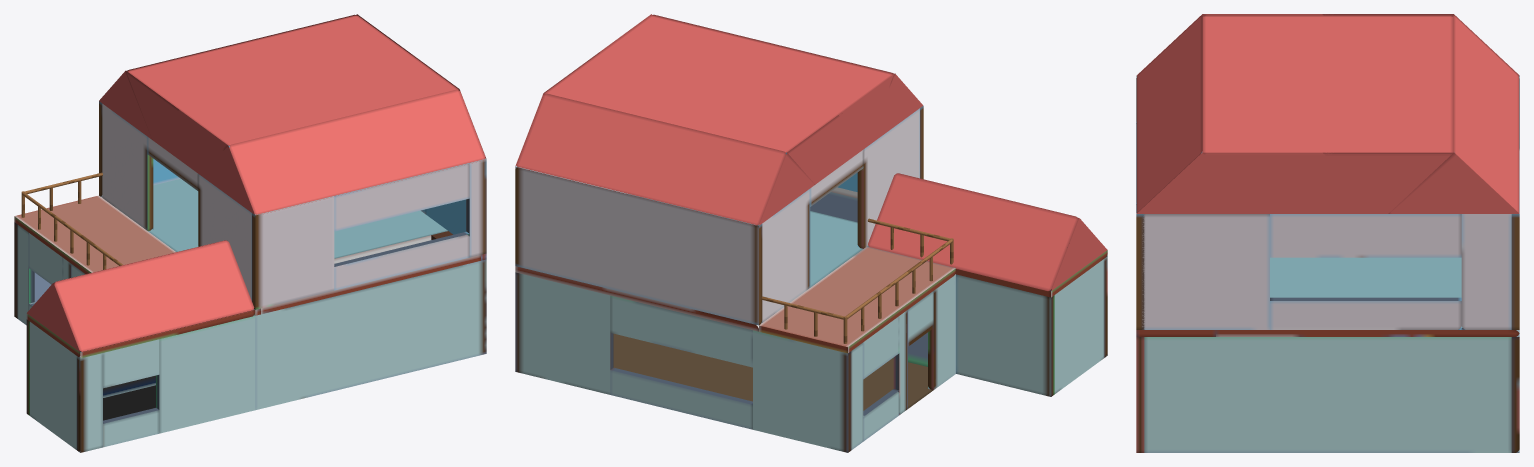
Rendered from lpHouse 1.fbx.
3 views of the same model, side by side, from view 1: azimuth 30°, elevation 25°; view 2: azimuth 150°, elevation 25°; view 3: azimuth 270°, elevation 25° (orthographic). The views are drawn at different scales.
Parts seen in each view (by area): view 1: plane_7, cube_2, plane_6, plane_3, cube_17, cube_26, cone_1, cube_22, cube_21, cube_25, cube_37, cube_4 (+18 smaller); view 2: plane_7, cube_32, plane_5, plane_4, cube_3, cube, cube_22, cube_10, cone_1, plane, cube_11, cube_4 (+14 smaller); view 3: cube_1, plane_7, cone_2, cube_30, cube_21, plane_6, plane_5, cube_31, cube_28, cube_29, cube_32, cube_10 (+4 smaller).
Boxes of the visible parts, x1,y1,x2,y2 form: plane_7: [128, 15, 458, 145]; cube_2: [255, 259, 486, 410]; plane_6: [229, 89, 485, 215]; plane_3: [54, 240, 254, 352]; cube_17: [156, 315, 255, 433]; cube_26: [252, 196, 334, 309]; cone_1: [99, 70, 254, 214]; cube_22: [14, 195, 175, 273]; cube_21: [101, 178, 447, 263]; cube_25: [334, 163, 469, 231]; cube_37: [102, 104, 153, 230]; cube_4: [30, 322, 76, 449]; plane_7: [545, 15, 892, 152]; cube_32: [515, 166, 762, 325]; plane_5: [516, 93, 785, 225]; plane_4: [868, 173, 1078, 290]; cube_3: [893, 274, 1054, 396]; cube: [753, 330, 851, 452]; cube_22: [759, 246, 955, 353]; cube_10: [515, 272, 613, 394]; cone_1: [759, 73, 922, 225]; plane: [613, 334, 933, 410]; cube_11: [610, 295, 752, 367]; cube_4: [1054, 259, 1104, 393]; cube_1: [1144, 337, 1511, 452]; plane_7: [1202, 15, 1453, 154]; cone_2: [1137, 152, 1519, 213]; cube_30: [1142, 214, 1269, 329]; cube_21: [1216, 257, 1519, 336]; plane_6: [1136, 15, 1202, 212]; plane_5: [1453, 15, 1519, 212]; cube_31: [1270, 214, 1461, 257]; cube_28: [1270, 297, 1461, 329]; cube_29: [1461, 214, 1511, 329]; cube_32: [1511, 75, 1519, 329]; cube_10: [1511, 330, 1519, 452].
Bounding box in the file's own units: 1802 × 1038 × 1201.
Materials: 7 (7 with a texture image).
